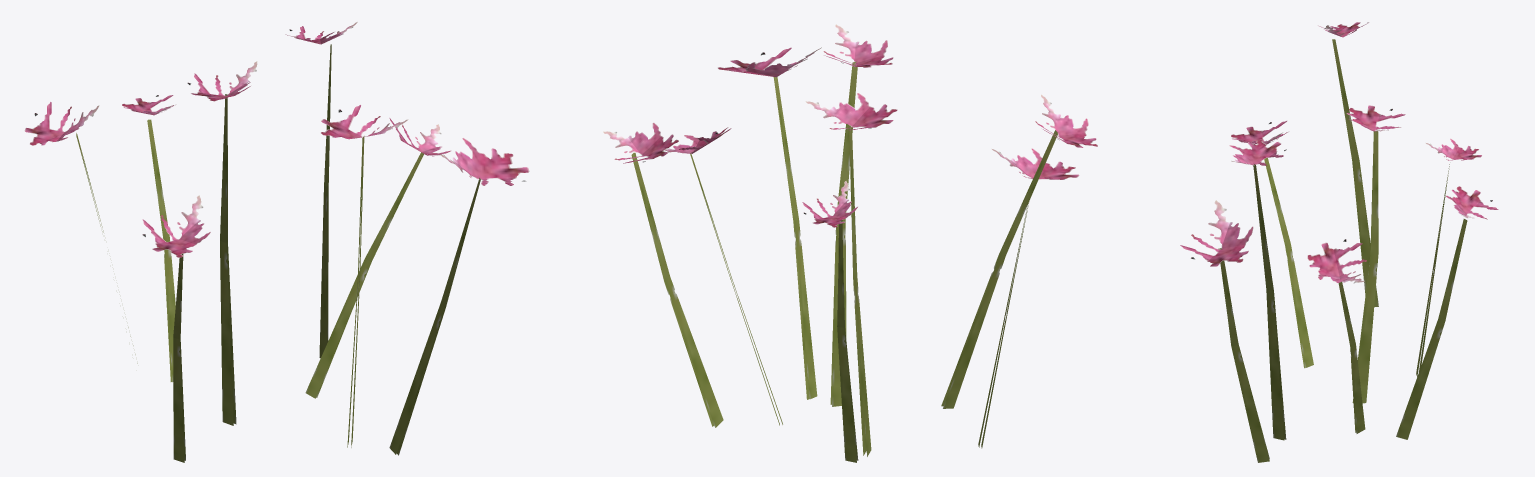
File: Flower_011.fbx
3 views of the same model, side by side, from view 1: azimuth 30°, elevation 25°; view 2: azimuth 150°, elevation 25°; view 3: azimuth 270°, elevation 25° (orthographic). The views are drawn at different scales.
Parts seen in each view (by area): view 1: FlowerPatch_011; view 2: FlowerPatch_011; view 3: FlowerPatch_011.
Boxes of the visible parts, bbox=[...] form: FlowerPatch_011: bbox=[24, 22, 529, 462]; FlowerPatch_011: bbox=[603, 24, 1097, 462]; FlowerPatch_011: bbox=[1180, 22, 1498, 462].
Size of the model in its own units: 56.8 by 46.33 by 45.84.
